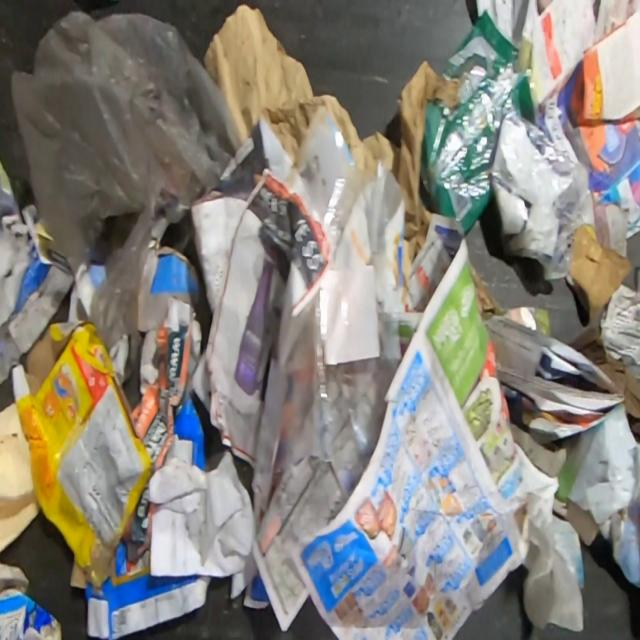cardboard: (10, 316, 154, 588), (0, 156, 75, 384), (85, 545, 213, 640), (568, 332, 640, 445), (150, 244, 212, 352), (568, 222, 634, 317), (173, 396, 232, 471), (0, 588, 62, 640)
soft_plastic: (8, 11, 239, 409), (253, 108, 401, 491), (419, 7, 538, 243), (485, 95, 595, 287)
